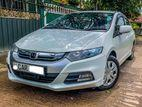car: (9, 11, 136, 92)
